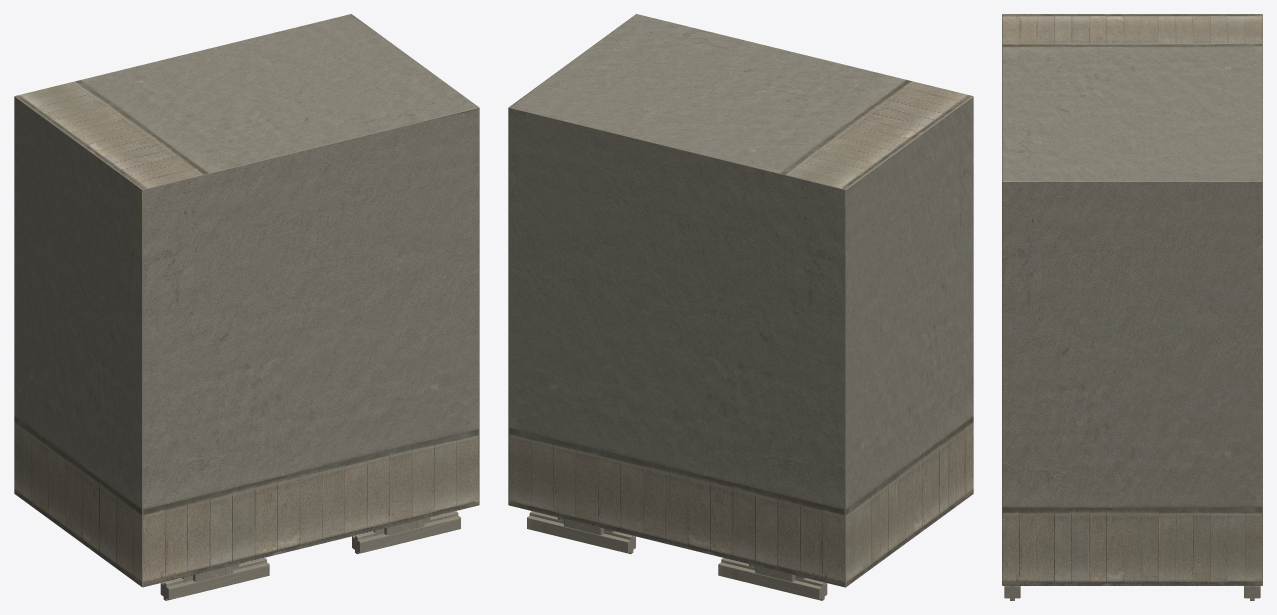
The model's file is pusher_body.dae.
The picture shows the model from 3 angles, left to right: view 1: azimuth 30°, elevation 25°; view 2: azimuth 150°, elevation 25°; view 3: azimuth 270°, elevation 25°; orthographic projection.
Parts seen in each view (by area): view 1: pusher_body; view 2: pusher_body; view 3: pusher_body.
Boxes of the visible parts, x1,y1,x2,y2 form: pusher_body: (14,14,479,600); pusher_body: (508,14,973,600); pusher_body: (1002,14,1262,600).
Size of the model in its own units: 5.86 by 3.85 by 6.98.
Materials: 1 (1 with a texture image).
